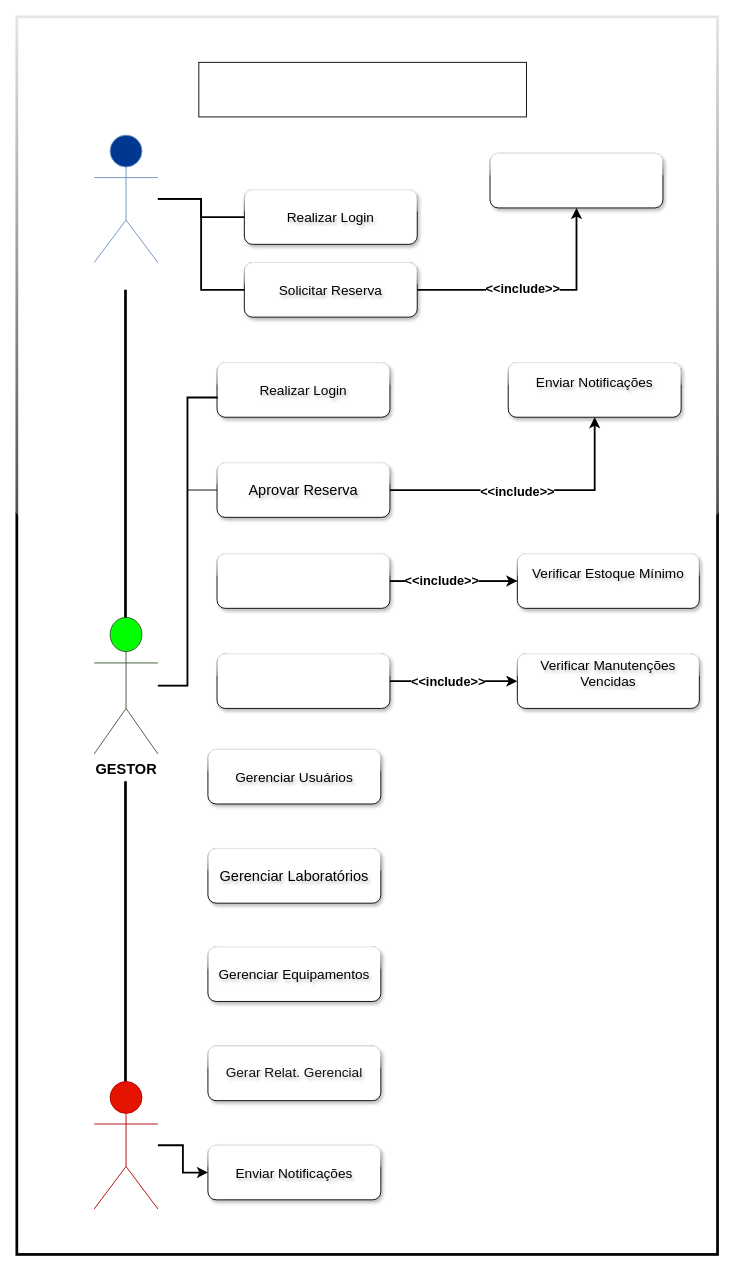
Image size: 734x1271. Some labels were removed from this diagram. Here are the shapes that lost their labels. From the top down, the centre of each, then its label:
At (362,89): "Sistema LABManager".
At (125,198): "USUÁRIO".
At (576,181): "Verificar Disponibilidade".
At (303,582): "Gerenciar Insumos".
At (303,682): "Gerenciar Manutenções".
At (125,1145): "SISTEMA".
